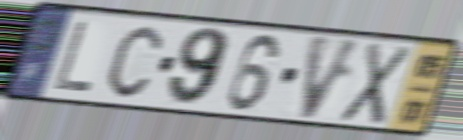6: (224, 32, 283, 114)
9: (167, 25, 234, 110)
C: (105, 23, 164, 100)
L: (50, 18, 96, 94)
V: (296, 32, 366, 123)
X: (336, 39, 415, 128)
